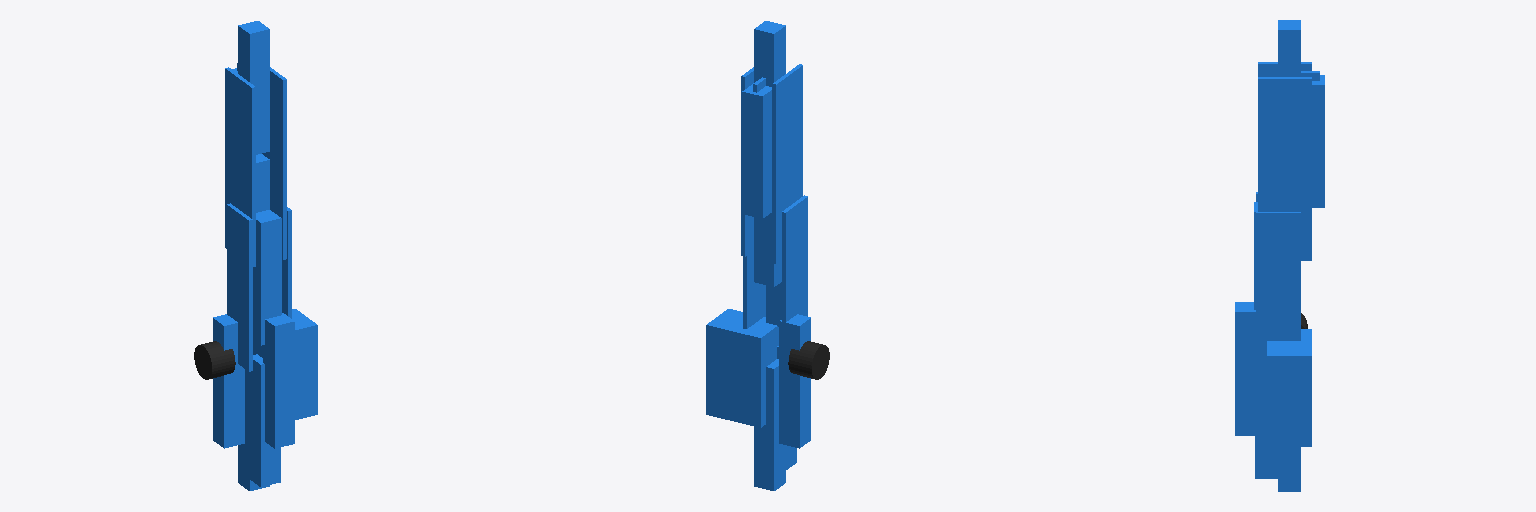
The robot description file, URDF, robot "dobot_arm_kickstarter":
<?xml version="0.0" ?>
<robot name="dobot_arm_kickstarter">
  <!-- URDF copyright [author] for http://pybullet.org -->
  <link name="baseLink">
    <inertial>
      <origin rpy="0 0 0" xyz="0 0 0"/>
       <mass value=".5"/>
       <inertia ixx="0.1" ixy="0" ixz="0" iyy="0.1" iyz="0" izz="0.1"/>
    </inertial>
    <visual>
      <origin rpy="0 0 0" xyz="0 0 0"/>
             <geometry>
        <!-- <mesh filename="cad/Dobot/A3.stl" scale="1 1 1"/> -->
         <box size="0.026  0.026 0.150"/>

      </geometry>
       <material name="blue">
        <color rgba="0.2 0.6 1 1"/>
      </material>
    </visual>
    
    <collision>
      <origin rpy="0 -1.570796 0" xyz="0 0 0"/>
      <geometry>
      <box size="0.005  0.125 0.105"/>
      </geometry>
    </collision>
  </link>
   <link name="linkA">
    <inertial>
      <origin rpy="0 0 0" xyz="0 0 0"/>
      <mass value=".3"/>
      <inertia ixx="0.048966669" ixy="0" ixz="0" iyy="0.046466667" iyz="0" izz="0.0041666669"/>
    </inertial>
    <visual>
      <origin rpy="0 0 0" xyz="0.0325 0 0"/>
      <geometry>
      
        <box size="0.07  0.050 0.11"/>
        <box size="0.005  0.05 0.11"/>
     
       <!-- <mesh filename="cad/Dobot/A1_2.stl" scale="1 1 1"/> -->
      </geometry>
	   <material name="blue"/>
	  </visual>
	   <visual>
      <origin rpy="0 0 0" xyz="-0.0325 0 0"/>
      <geometry>
       <!-- <mesh filename="cad/Dobot/A1_2.stl" scale="1 1 1"/> -->
      <box size="0.026  0.026 0.150"/>

      </geometry>
	   <material name="blue"/>
	  </visual>
	  <visual>
      <origin rpy="0 0 0" xyz="0.005 -0.047  0.01"/>
      <geometry>
       <!-- <mesh filename="cad/Dobot/A22.stl" scale="1 1 1"/> -->
      <box size="0.026  0.026 0.150"/>
      </geometry>
	   <material name="blue"/>
	  </visual>
	   <visual>
      <origin rpy="0 0 0" xyz="0 -0.0245 -0.045"/>
      <geometry>
        <!-- <mesh filename="cad/Dobot/A4.stl" scale="1 1 1"/> -->
        <box size="0.026  0.026 0.150"/>
      </geometry>
       <material name="blue"/>
    </visual>
    
     <collision>
       <origin rpy="0 0 0" xyz="0 0 0"/>
       <geometry>
          <box size="0.07  0.055 0.11"/>
       </geometry>
     </collision>
   </link>
   <joint name="joint_baseLink_childA" type="continuous">
    <parent link="baseLink"/>
    <child link="linkA"/>
	<dynamics damping="1.0" friction="0.0001"/>
    <origin xyz="0.0 0.0 0.06"/>
		<axis xyz="0 0 1"/>
  </joint>
  
   <link name="motorA">
    <inertial>
      <origin rpy="0 1.57 0" xyz="0 0 0"/>
      <mass value=".1"/>
      <inertia ixx="0.048966669" ixy="0" ixz="0" iyy="0.046466667" iyz="0" izz="0.0041666669"/>
    </inertial>
    <visual>
      <origin rpy="0 1.57 0" xyz="0 0 0"/>
      <geometry>
        <cylinder length="0.03" radius="0.02"/>
      </geometry>
	   <material name="black">
	   <color rgba="0.2 0.2 0.2 1"/>
	   </material>
	  </visual>
     <collision>
       <origin rpy="0 1.57 0" xyz="0 0 0"/>
      <geometry>
        <cylinder length="0.03" radius="0.02"/>
      </geometry>
     </collision>
   </link>
   
    <joint name="joint_linkAmotorA" type="continuous">
    <parent link="linkA"/>
    <child link="motorA"/>
	<dynamics damping="1.0" friction="0.0001"/>
    <origin xyz="0.05 0.0 0.03"/>
    <axis xyz="1 0 0"/>
  </joint>
  
   <link name="motorB">
    <inertial>
      <origin rpy="0 1.57 0" xyz="0 0 0"/>
      <mass value=".1"/>
      <inertia ixx="0.048966669" ixy="0" ixz="0" iyy="0.046466667" iyz="0" izz="0.0041666669"/>
    </inertial>
    <visual>
      <origin rpy="0 1.57 0" xyz="0 0 0"/>
      <geometry>
        <cylinder length="0.03" radius="0.02"/>
      </geometry>
	   <material name="black">
	   <color rgba="0.2 0.2 0.2 1"/>
	   </material>
	  </visual>
     <collision>
       <origin rpy="0 1.57 0" xyz="0 0 0"/>
      <geometry>
        <cylinder length="0.03" radius="0.02"/>
      </geometry>
     </collision>
   </link>
   
    <joint name="joint_linkAmotorB" type="continuous">
    <parent link="linkA"/>
    <child link="motorB"/>
	<dynamics damping="1.0" friction="0.0001"/>
    <origin xyz="-0.05 0.0 0.03"/>
    <axis xyz="-1 0 0"/>
  </joint>
  
   <link name="linkA9">
    <inertial>
      <origin rpy="0 0 0" xyz="0 0 0.075"/>
      <mass value=".1"/>
      <inertia ixx="0.048966669" ixy="0" ixz="0" iyy="0.046466667" iyz="0" izz="0.0041666669"/>
    </inertial>
    <visual>
      <origin rpy="0 0 0" xyz="0 0 0.075"/>
      <geometry>
        <!-- <mesh filename="cad/Dobot/A9.stl" scale="1 1 1"/> -->
        <box size="0.026  0.026 0.150"/>

      </geometry>
	   <material name="blue"/>
	  </visual>
     <collision>
       <origin rpy="0 0 0" xyz="0 0 0.07"/>
       <geometry>
          <box size="0.005 0.02 0.18"/>
       </geometry>
     </collision>
   </link>
   
   <joint name="joint_linkAlinkA9" type="continuous">
    <parent link="linkA"/>
    <child link="linkA9"/>
	<dynamics damping="1.0" friction="0.0001"/>
    <origin xyz="0 -0.026 0.054"/>
		<axis xyz="1 0 0"/>
  </joint>
  
  
   
    <link name="linkB">
    <inertial>
      <origin rpy="0 0 0" xyz="0 0 0.075"/>
      <mass value=".1"/>
      <inertia ixx="0.048966669" ixy="0" ixz="0" iyy="0.046466667" iyz="0" izz="0.0041666669"/>
    </inertial>
    <visual>
      <origin rpy="1.570796 0 0" xyz="0.025 -0.012 0.077"/>
      <geometry>
        <!-- <box size="0.036  0.036 0.150"/> -->
        <box size="0.005  0.185 0.05"/>
        <!-- <mesh filename="cad/Dobot/A12_13.stl" scale="1 1 1"/> -->
      </geometry>
	   <material name="blue"/>
	  </visual>
	  <visual>
      <origin rpy="1.570796 0 0" xyz="-0.025 -0.012 0.077"/>
      <geometry>
        <!-- <box size="0.036  0.036 0.150"/> -->
        <box size="0.005  0.185 0.05"/>
        <!-- <mesh filename="cad/Dobot/A12_13.stl" scale="1 1 1"/> -->
      </geometry>
	   <material name="blue"/>
	  </visual>
     <collision>
       <origin rpy="0 0 0" xyz="0 0 0.075"/>
       <geometry>
          <box size="0.036  0.036 0.150"/>
       </geometry>
     </collision>
   </link>
   
   <joint name="joint_linkAlinkB" type="continuous">
    <parent link="linkA"/>
    <child link="linkB"/>
	<dynamics damping="1.0" friction="0.0001"/>
    <origin xyz="0 0.0 0.04"/>
		<axis xyz="1 0 0"/>
  </joint>
  
    <link name="linkC2">
    <inertial>
      <origin rpy="0 0 0" xyz="0 0 0.0"/>
      <mass value=".1"/>
      <inertia ixx="0.048966669" ixy="0" ixz="0" iyy="0.046466667" iyz="0" izz="0.0041666669"/>
    </inertial>
    <visual>
      <origin rpy="0 0 0" xyz="0 0 0"/>
      <geometry>
        <!-- <mesh filename="cad/Dobot/A11.stl" scale="1 1 1"/> -->
        <box size="0.026  0.026 0.150"/>

      </geometry>
	   <material name="blue"/>
	  </visual>
	   <collision>
       <origin rpy="0 0 0" xyz="0 0 0.0"/>
       <geometry>
          <!-- <box size="0.005  0.05 0.031"/> -->
          <box size="0.026  0.026 0.150"/>

       </geometry>
     </collision>
   </link>
   
    <joint name="joint_linkBlinkC2" type="continuous">
    <parent link="linkB"/>
    <child link="linkC2"/>
	<dynamics damping="1.0" friction="0.0001"/>
    <origin xyz="0.0 0.0 0.150"/>
		<axis xyz="1 0 0"/>
  </joint>
  
  <link name="linkC">
    <inertial>
      <origin rpy="0 0 0" xyz="0 0 0.08"/>
      <mass value=".1"/>
      <inertia ixx="0.048966669" ixy="0" ixz="0" iyy="0.046466667" iyz="0" izz="0.0041666669"/>
    </inertial>
    <visual>
      <origin rpy="1.570796 0 0" xyz="0.02 -0.005 0.07"/>
      <geometry>
        <!-- <box size="0.026  0.026 0.150"/> -->
        <box size="0.005  0.22 0.06"/>
        <!-- <mesh filename="cad/Dobot/A6_7.stl" scale="1 1 1"/> -->
      </geometry>
	   <material name="blue"/>
	  </visual>
	  <visual>
      <origin rpy="1.570796 0 0" xyz="-0.02 -0.005 0.07"/>
      <geometry>
        <!-- <box size="0.026  0.026 0.150"/> -->
        <box size="0.005  0.22 0.06"/>
        <!-- <mesh filename="cad/Dobot/A6_7.stl" scale="1 1 1"/> -->
      </geometry>
	   <material name="blue"/>
	  </visual>
     <collision>
       <origin rpy="0 0 0" xyz="0 0 0.075"/>
       <geometry>
          <box size="0.026  0.026 0.21"/>
       </geometry>
     </collision>
   </link>
   
    <joint name="joint_linkBlinkC" type="continuous">
    <parent link="linkB"/>
    <child link="linkC"/>
	<dynamics damping="1.0" friction="0.0001"/>
    <origin xyz="0.0 0.0 0.150"/>
		<axis xyz="1 0 0"/>
  </joint>

  <link name="linkD">
    <inertial>
      <origin rpy="0 0 0" xyz="0 0 0.02"/>
      <mass value=".1"/>
      <inertia ixx="0.048966669" ixy="0" ixz="0" iyy="0.046466667" iyz="0" izz="0.0041666669"/>
    </inertial>
    <visual>
      <origin rpy="0 0 0" xyz="0.0 0.011 0.0"/>
      <geometry>
        <!-- <box size="0.01  0.02 0.08"/> -->
        <box size="0.005  0.045 0.037"/>
        <!-- <mesh filename="cad/Dobot/A17.stl" scale="1 1 1"/> -->
      </geometry>
	   <material name="blue"/>
	  </visual>
	  <visual>
      <origin rpy="0 0 0" xyz="0.0 0. 0.0"/>
      <geometry>
        <!-- <mesh filename="cad/Dobot/A16.stl" scale="1 1 1"/> -->
        <box size="0.026  0.026 0.150"/>

      </geometry>
	   <material name="blue"/>
	  </visual>
	 	  
     <collision>
       <origin rpy="0 0 0" xyz="0.00 0.045 -0.017"/>
       <geometry>
          <box size="0.02  0.08 0.005"/>
       </geometry>
     </collision>
   </link>
   
    <joint name="joint_linkClinkD" type="continuous">
    <parent link="linkC"/>
    <child link="linkD"/>
	<dynamics damping="1.0" friction="0.0001"/>
    <!-- <origin xyz="0.0 0.00 0.160"/> -->
    <origin xyz="0.0 0.00 0.160"/>
		<axis xyz="1 0 0"/>
  </joint>

<link name="linkA10">
    <inertial>
      <origin rpy="0 0 0" xyz="0 0 0.08"/>
      <mass value=".1"/>
      <inertia ixx="0.048966669" ixy="0" ixz="0" iyy="0.046466667" iyz="0" izz="0.0041666669"/>
    </inertial>
    <visual>
      <origin rpy="0 0 0" xyz="0 0 0.08"/>
      <geometry>
        <!-- <mesh filename="cad/Dobot/A10.stl" scale="1 1 1"/> -->
        <box size="0.026  0.026 0.150"/>

      </geometry>
	   <material name="blue"/>
	  </visual>
     <collision>
       <origin rpy="0 0 0" xyz="0 0 0.08"/>
       <geometry>
          <box size="0.005 0.02 0.17"/>
       </geometry>
     </collision>
   </link>
   
   <joint name="joint_linkC2linkA10" type="continuous">
    <parent link="linkC2"/>
    <child link="linkA10"/>
	<dynamics damping="1.0" friction="0.0001"/>
    <origin xyz="0 0.026 0.014"/>
		<axis xyz="1 0 0"/>
  </joint>
  


  
</robot>

--- Render facts (derived) ---
The picture shows the robot from 3 angles, left to right: view 1: azimuth 30°, elevation 25°; view 2: azimuth 150°, elevation 25°; view 3: azimuth 270°, elevation 25°; orthographic projection.
Robot: dobot_arm_kickstarter — 10 links, 9 joints (9 continuous); root link baseLink; default pose: all joints at 0.
Links seen in each view (by area): view 1: linkA, linkC, linkB, linkA9, linkD, motorB, baseLink, linkC2; view 2: linkA, linkC, linkB, linkA10, baseLink, linkD, linkC2, motorB, linkA9; view 3: linkA, linkC, linkB, linkA10, linkD, baseLink.
Boxes of the visible links, x1,y1,x2,y2 form: linkA: [213, 309, 317, 486]; linkC: [225, 67, 286, 266]; linkB: [227, 203, 291, 371]; linkA9: [253, 210, 281, 345]; linkD: [237, 21, 269, 154]; motorB: [194, 341, 235, 379]; baseLink: [238, 369, 269, 490]; linkC2: [256, 154, 269, 212]; linkA: [706, 309, 810, 469]; linkC: [741, 64, 802, 263]; linkB: [743, 195, 807, 328]; linkA10: [742, 83, 771, 218]; baseLink: [754, 359, 785, 490]; linkD: [753, 21, 785, 92]; linkC2: [754, 213, 781, 286]; motorB: [788, 341, 829, 379]; linkA9: [766, 282, 781, 326]; linkA: [1235, 302, 1311, 478]; linkC: [1258, 62, 1311, 260]; linkB: [1256, 192, 1300, 365]; linkA10: [1312, 75, 1324, 207]; linkD: [1278, 20, 1319, 80]; baseLink: [1278, 447, 1300, 491].
Size in the robot's own frame: 0.1325 by 0.099 by 0.56 metres.
Geometry: primitives only (box / cylinder / sphere), no mesh files.